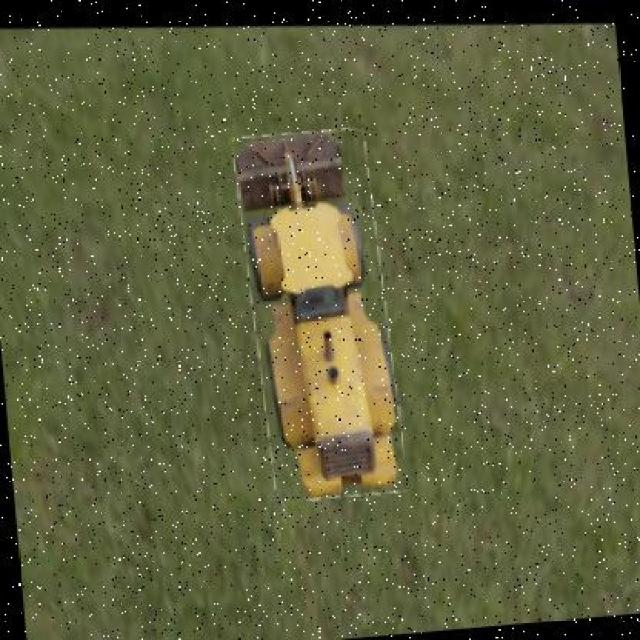buldozerpayloadergrader: (232, 126, 405, 505)
